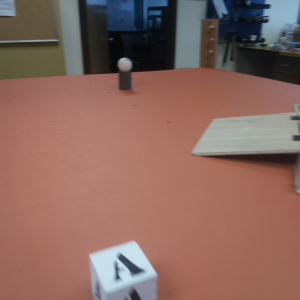blockA: (83, 238, 159, 300)
corner: (199, 16, 221, 71)
obstacle: (116, 56, 137, 90)
slope: (189, 113, 300, 156)
